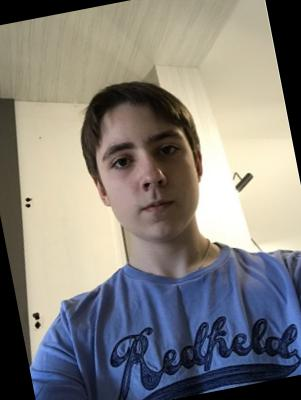without_mask: (94, 121, 210, 252)
